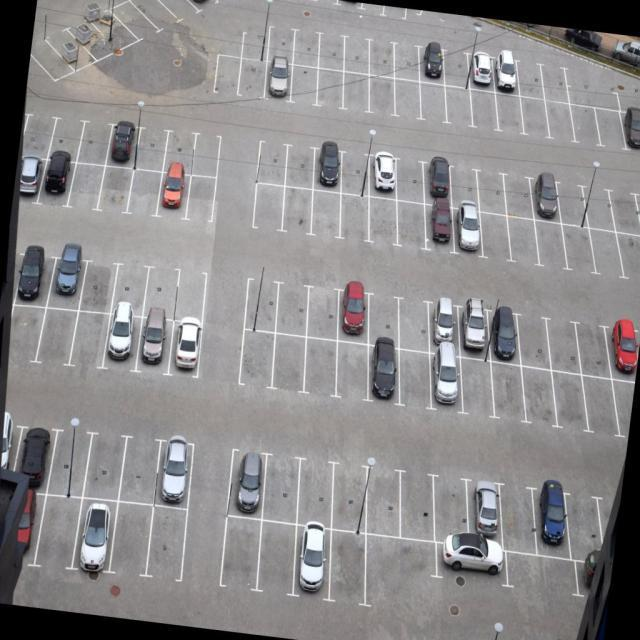car: (436, 540, 512, 583), (71, 500, 115, 574), (293, 524, 338, 596), (225, 449, 267, 518), (12, 427, 54, 495), (154, 438, 197, 504), (534, 486, 574, 556), (80, 0, 137, 49), (425, 348, 471, 408), (136, 312, 177, 376), (101, 310, 142, 373), (468, 480, 506, 546), (48, 22, 94, 74), (365, 344, 403, 404), (525, 168, 565, 225), (602, 323, 640, 380), (166, 322, 206, 376), (460, 298, 496, 358), (69, 14, 119, 57), (38, 156, 78, 208), (421, 202, 460, 254), (446, 203, 484, 256), (337, 286, 374, 339), (47, 257, 85, 308), (18, 250, 54, 303), (491, 306, 525, 360), (366, 150, 402, 200), (428, 299, 463, 350), (315, 141, 348, 191), (263, 55, 295, 104), (15, 153, 48, 200), (423, 157, 455, 205), (157, 170, 187, 217), (108, 124, 140, 168), (463, 47, 498, 87), (415, 42, 448, 83), (616, 105, 640, 158), (490, 54, 523, 92), (173, 0, 220, 14)
free: (106, 497, 155, 579), (146, 501, 193, 584), (326, 522, 372, 604), (506, 552, 580, 600), (253, 518, 300, 592), (294, 454, 338, 530), (562, 491, 608, 562), (218, 514, 263, 586), (34, 498, 78, 570), (48, 430, 92, 502), (367, 535, 442, 576), (498, 480, 541, 550), (262, 450, 304, 520), (574, 178, 625, 235), (82, 434, 124, 502), (485, 360, 531, 420), (576, 375, 624, 432), (368, 462, 407, 532), (335, 454, 373, 524), (34, 306, 78, 366), (122, 438, 160, 505), (398, 473, 437, 538), (431, 474, 471, 537), (528, 214, 570, 274), (574, 318, 618, 374), (240, 326, 278, 390), (550, 371, 592, 428), (550, 178, 594, 232), (518, 368, 560, 424), (271, 330, 310, 390), (393, 347, 432, 407), (556, 226, 601, 278), (4, 303, 44, 361), (70, 311, 108, 372), (302, 336, 343, 392), (474, 212, 518, 264), (514, 314, 556, 368), (27, 35, 74, 83), (244, 274, 284, 330), (512, 48, 552, 104), (501, 216, 544, 268), (333, 337, 371, 395), (470, 166, 512, 218), (112, 0, 168, 39), (78, 260, 116, 316), (456, 354, 494, 410), (546, 318, 584, 373), (335, 192, 373, 245), (364, 194, 402, 247), (498, 171, 538, 221), (111, 260, 148, 314), (276, 278, 314, 330), (368, 290, 406, 342), (336, 68, 374, 120), (144, 264, 180, 318), (582, 232, 624, 278), (308, 187, 343, 242), (566, 76, 622, 110), (394, 198, 430, 250), (608, 182, 640, 240), (176, 268, 210, 322), (392, 154, 428, 205), (388, 74, 426, 122), (360, 70, 398, 118), (308, 286, 343, 338), (280, 188, 316, 238), (71, 160, 108, 208), (253, 139, 290, 187), (542, 96, 576, 148), (129, 0, 184, 32), (340, 146, 376, 194), (536, 56, 574, 101), (400, 298, 434, 348), (450, 158, 484, 208), (128, 168, 164, 214), (101, 164, 134, 214), (252, 182, 285, 232), (516, 92, 549, 142), (606, 376, 634, 434), (133, 127, 169, 172), (52, 113, 84, 163), (162, 128, 195, 176), (236, 52, 269, 98), (288, 62, 318, 112), (490, 92, 524, 136), (442, 83, 473, 131), (286, 142, 318, 187), (466, 86, 494, 137), (79, 118, 110, 164), (342, 31, 376, 72), (23, 114, 53, 160), (417, 80, 447, 126), (212, 50, 242, 96), (314, 28, 348, 68), (186, 172, 216, 217), (192, 129, 222, 174), (316, 66, 344, 114), (440, 42, 472, 84), (614, 231, 640, 281), (570, 102, 596, 152), (390, 42, 422, 81), (267, 22, 297, 62), (240, 21, 270, 60), (365, 38, 399, 72), (290, 30, 322, 66), (150, 0, 201, 22), (597, 106, 620, 154)
